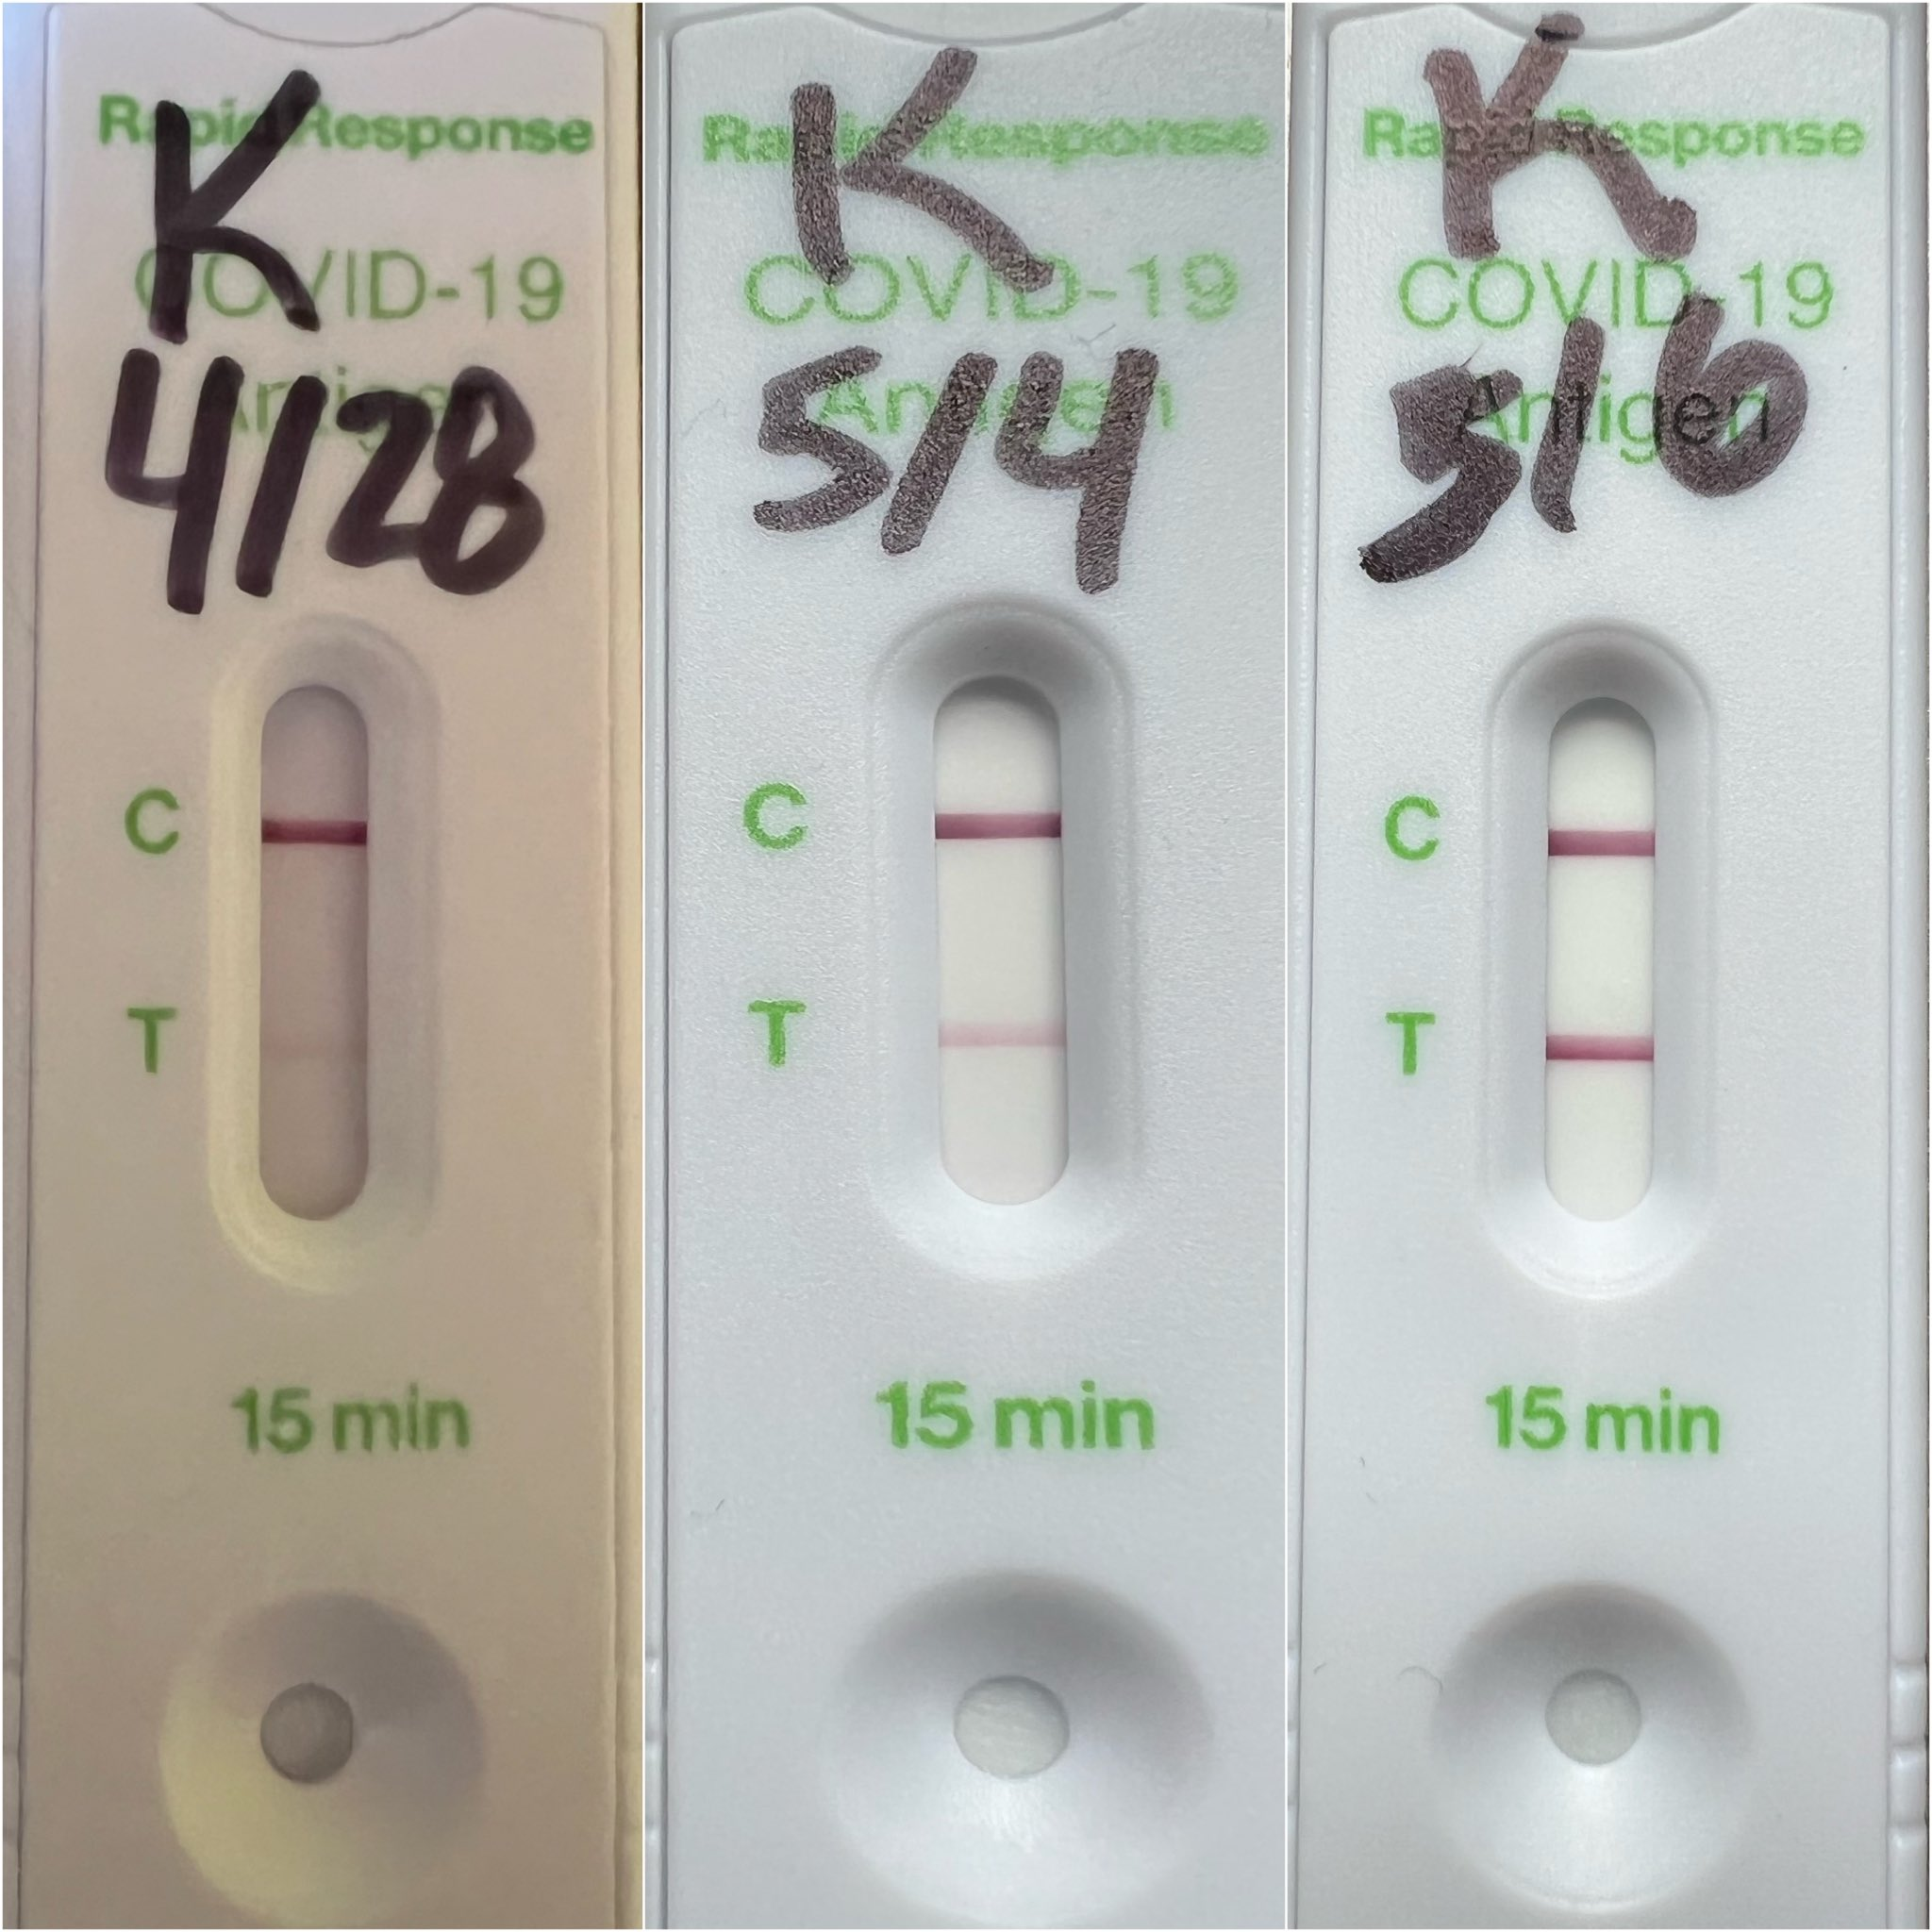positive: (890, 665, 1106, 1240), (1513, 640, 1697, 1261), (228, 671, 416, 1244)
